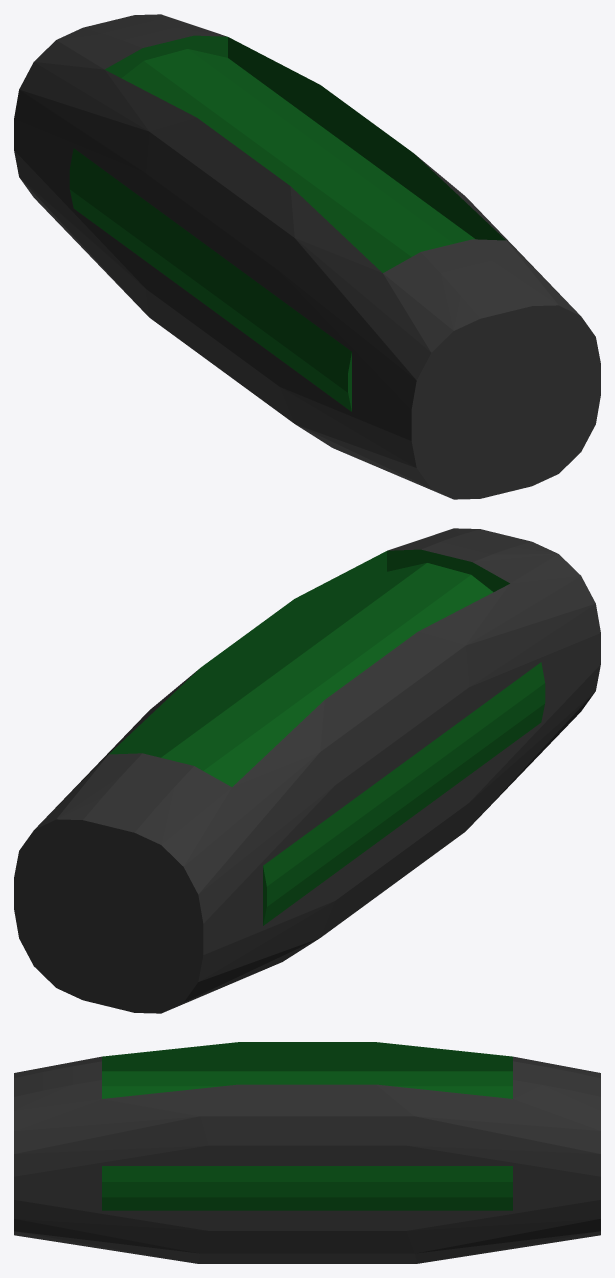
Rendered from Weapon-Healing-Stock.fbx.
3 views of the same model, one above another, from view 1: azimuth 30°, elevation 25°; view 2: azimuth 150°, elevation 25°; view 3: azimuth 270°, elevation 25° (orthographic). The views are drawn at different scales.
Parts seen in each view (by area): view 1: Weapon-Healing-Stock; view 2: Weapon-Healing-Stock; view 3: Weapon-Healing-Stock.
Part boxes in pixels (x1,y1,x2,y2): Weapon-Healing-Stock: [14, 14, 600, 499]; Weapon-Healing-Stock: [14, 528, 600, 1013]; Weapon-Healing-Stock: [14, 1042, 600, 1263].
Bounding box in the file's own units: 114 × 141 × 400.
